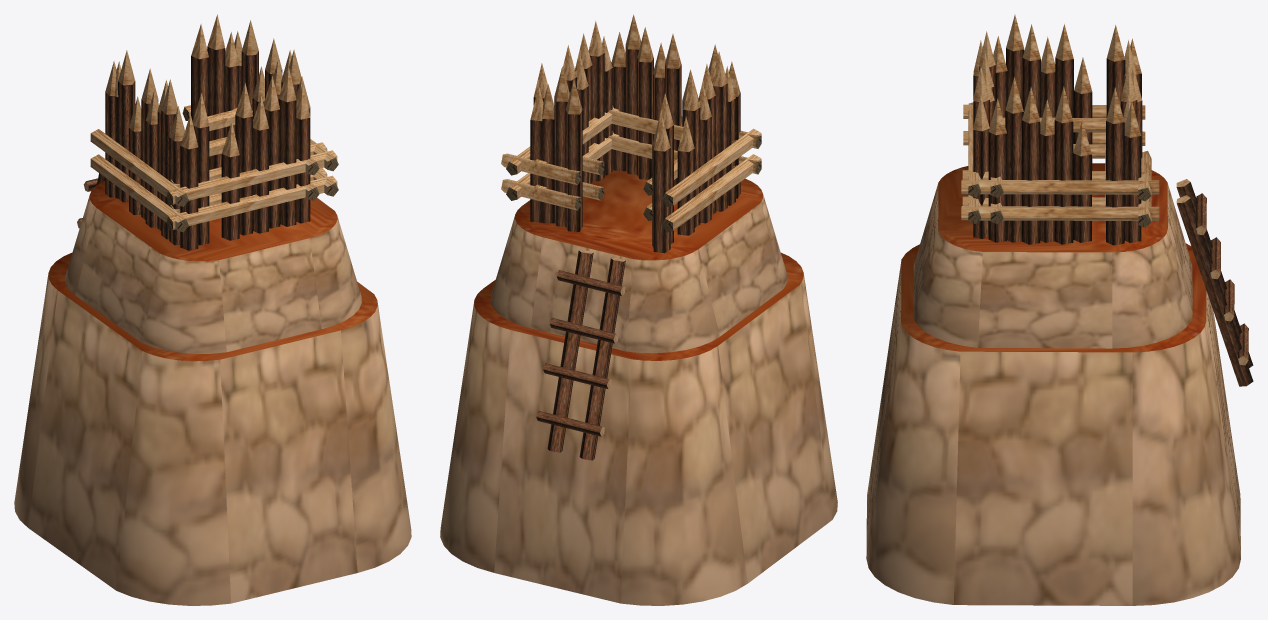
Rendered from wood_defense_tower.dae.
The picture shows the model from 3 angles, left to right: view 1: azimuth 30°, elevation 25°; view 2: azimuth 150°, elevation 25°; view 3: azimuth 270°, elevation 25°; orthographic projection. The views are drawn at different scales.
Parts seen in each view (by area): view 1: tower_b; view 2: tower_b; view 3: tower_b.
Boxes of the visible parts, x1=… form: tower_b: x1=14, y1=14, x2=411, y2=605; tower_b: x1=440, y1=14, x2=837, y2=605; tower_b: x1=866, y1=14, x2=1253, y2=605.
Bounding box in the file's own units: 10.48 × 11.54 × 16.01.
Materials: 1 (1 with a texture image).
